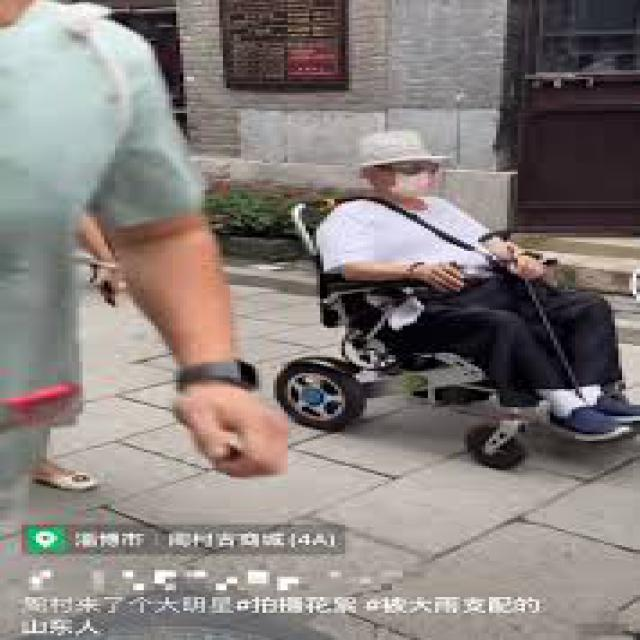wheelchairs: (258, 194, 636, 466)
